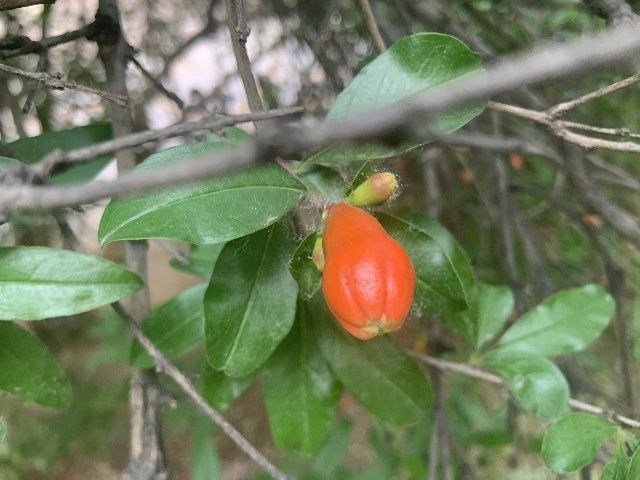bud: (320, 203, 415, 339), (349, 172, 399, 207)
